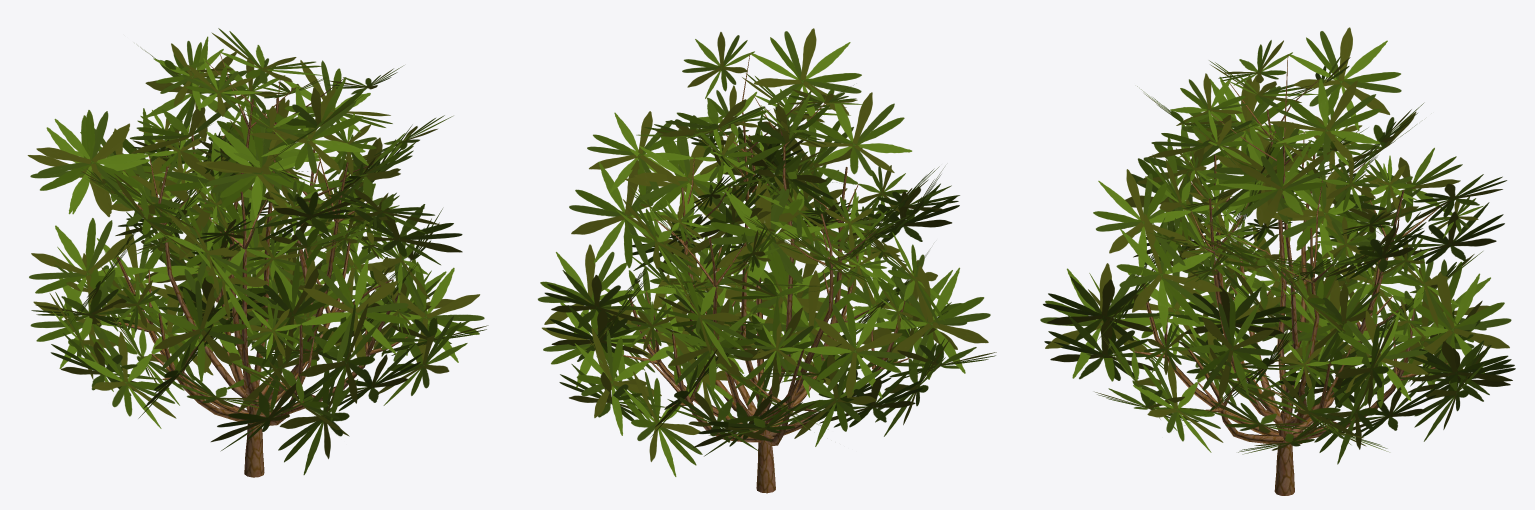
The picture shows the model from 3 angles, left to right: view 1: azimuth 30°, elevation 25°; view 2: azimuth 150°, elevation 25°; view 3: azimuth 270°, elevation 25°; orthographic projection. The views are drawn at different scales.
Parts seen in each view (by area): view 1: uka_tree_uka1_2_Mat_0, uka_tree_kora_sosni_Mat_0; view 2: uka_tree_uka1_2_Mat_0, uka_tree_kora_sosni_Mat_0; view 3: uka_tree_uka1_2_Mat_0, uka_tree_kora_sosni_Mat_0.
Part boxes in pixels (x1,y1,x2,y2): uka_tree_uka1_2_Mat_0: [27, 28, 488, 474]; uka_tree_kora_sosni_Mat_0: [98, 52, 407, 477]; uka_tree_uka1_2_Mat_0: [537, 28, 996, 476]; uka_tree_kora_sosni_Mat_0: [623, 53, 909, 493]; uka_tree_uka1_2_Mat_0: [1040, 27, 1515, 464]; uka_tree_kora_sosni_Mat_0: [1134, 54, 1447, 495].
Size of the model in its own units: 12.35 by 11.66 by 11.87.
2 materials, 2 textured.
